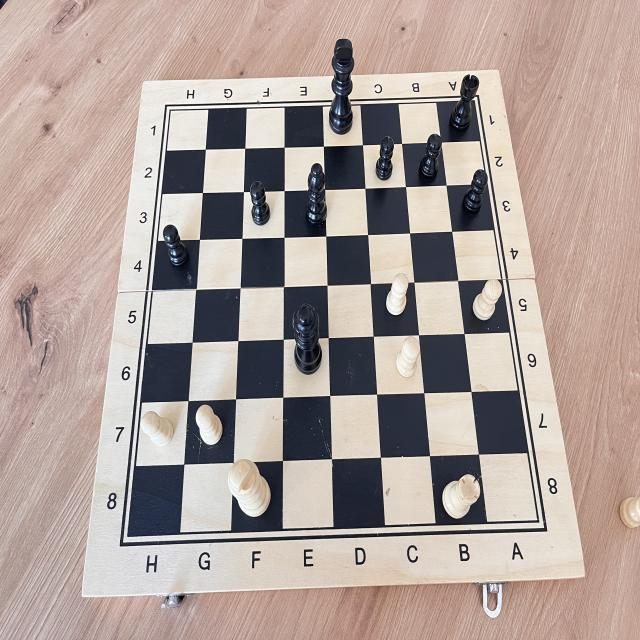black-bishop: (299, 155, 333, 234)
black-king: (321, 33, 358, 138)
black-pawn: (456, 165, 491, 222), (157, 218, 195, 270), (412, 130, 447, 183), (242, 176, 274, 231), (366, 133, 399, 183)
black-queen: (283, 291, 326, 380)
black-rook: (442, 65, 482, 141)
white-king: (221, 450, 275, 524)
white-pawn: (468, 273, 506, 330), (138, 408, 178, 456), (390, 331, 425, 382), (192, 399, 227, 449), (384, 269, 414, 327)
white-rook: (438, 464, 483, 523)
